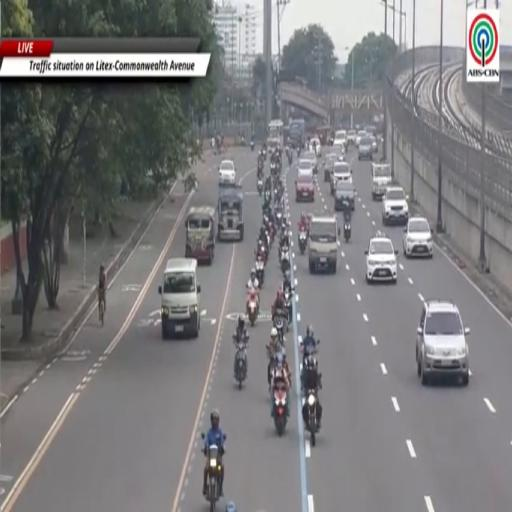car: (416, 300, 470, 386), (159, 259, 200, 339), (308, 215, 340, 274), (365, 234, 397, 283), (403, 217, 433, 258), (382, 186, 408, 226), (331, 162, 352, 195), (334, 182, 354, 211), (295, 172, 314, 202), (219, 160, 236, 185), (324, 153, 338, 182), (358, 137, 373, 161), (301, 151, 317, 173), (297, 158, 313, 175), (333, 131, 346, 148), (331, 146, 345, 161), (310, 137, 321, 156), (355, 131, 366, 147), (370, 136, 378, 153), (347, 131, 356, 145), (365, 125, 376, 136)
jeepney: (185, 206, 215, 264), (218, 185, 244, 241), (372, 164, 392, 200)
motorcycle: (206, 445, 221, 511), (233, 335, 247, 389), (273, 383, 287, 436), (306, 390, 317, 446), (274, 310, 288, 345), (247, 292, 258, 326), (281, 248, 290, 275), (284, 290, 291, 324), (255, 260, 264, 286), (300, 343, 304, 391), (298, 231, 306, 254), (344, 220, 351, 242), (257, 160, 263, 181), (257, 178, 263, 196), (276, 211, 282, 227), (264, 189, 271, 202), (270, 163, 275, 175), (288, 152, 292, 165), (262, 149, 266, 161), (297, 147, 300, 157), (251, 141, 254, 151)
